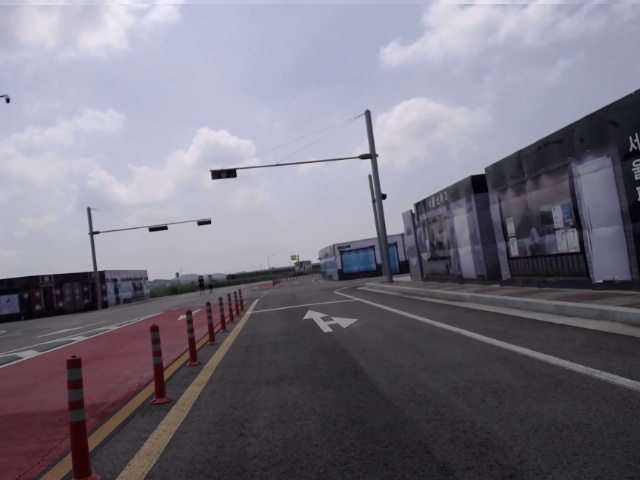orange_3: (212, 169, 239, 179)
